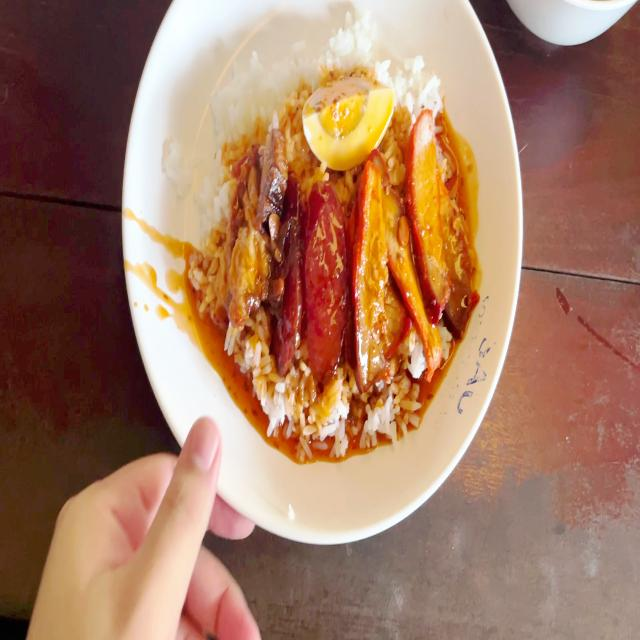boiled_egg: (316, 90, 396, 156)
chainese_sausage: (279, 187, 342, 358)
crispy_pork: (231, 144, 279, 312)
red_pork: (359, 146, 451, 363)
red_pork_and_crispy_pork: (207, 60, 475, 449)
rice: (281, 375, 420, 445), (208, 51, 304, 150), (199, 170, 234, 316), (325, 17, 376, 78), (232, 341, 278, 404), (392, 64, 439, 120)
